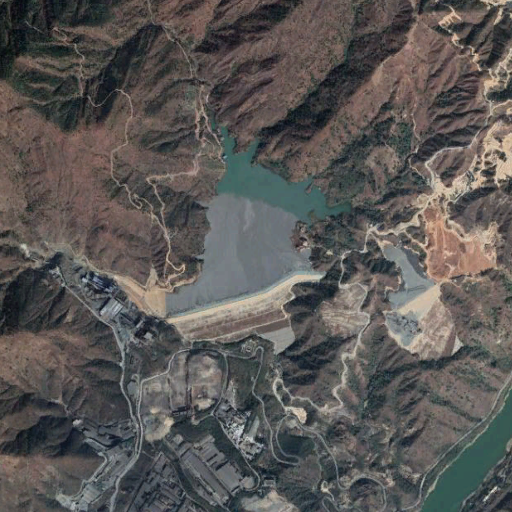tp: (165, 128, 350, 370), (378, 231, 466, 361)
